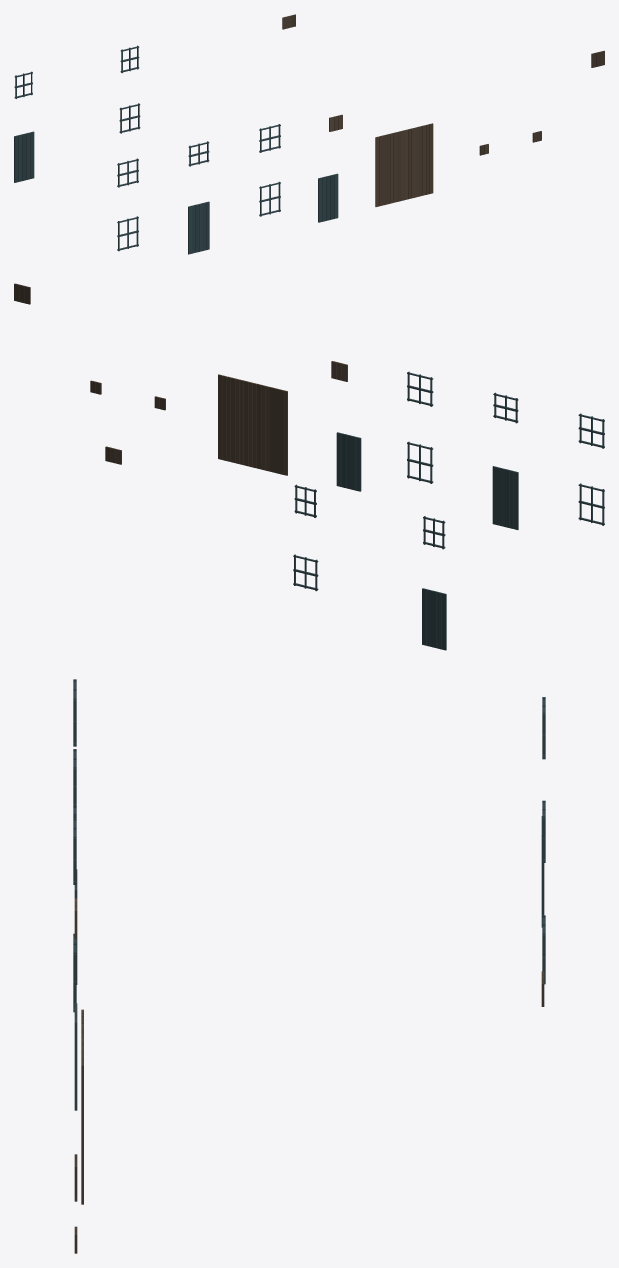
Rendered from SM_Bld_170_Wood.glb.
3 views of the same model, one above another, from view 1: azimuth 30°, elevation 25°; view 2: azimuth 150°, elevation 25°; view 3: azimuth 270°, elevation 25° (orthographic). The views are drawn at different scales.
Visible parts, largest first — view 1: SM_Bld_170_Wood; view 2: SM_Bld_170_Wood; view 3: SM_Bld_170_Wood.
Boxes of the visible parts, x1,y1,x2,y2 form: SM_Bld_170_Wood: [14, 14, 604, 254]; SM_Bld_170_Wood: [14, 283, 604, 650]; SM_Bld_170_Wood: [73, 679, 545, 1253].
Size of the model in its own units: 22.03 by 4.67 by 9.24.
